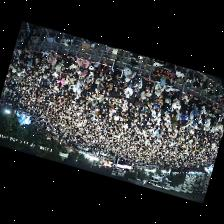person: (111, 54, 124, 78), (98, 58, 109, 76), (77, 56, 90, 70), (142, 77, 155, 91), (62, 53, 76, 66), (47, 52, 58, 67), (142, 99, 151, 117), (173, 92, 181, 112), (124, 67, 136, 80), (163, 86, 176, 98), (201, 103, 208, 123), (182, 92, 194, 103), (132, 72, 142, 85), (155, 82, 165, 95), (104, 70, 112, 86), (164, 98, 171, 116), (96, 74, 108, 84), (152, 91, 162, 103), (125, 83, 133, 97), (122, 75, 131, 87), (134, 78, 142, 91), (194, 104, 200, 121), (196, 99, 206, 109), (69, 62, 78, 73), (113, 79, 122, 90), (141, 87, 150, 98), (135, 98, 143, 110), (42, 49, 50, 61), (86, 70, 94, 82), (56, 61, 63, 74), (33, 50, 43, 59), (65, 68, 73, 79), (172, 115, 179, 127), (89, 61, 99, 69), (57, 77, 65, 87), (210, 105, 217, 116), (109, 90, 116, 101), (136, 89, 142, 101), (176, 112, 182, 124), (189, 97, 197, 106), (182, 114, 189, 124), (15, 47, 22, 57), (78, 70, 86, 78), (123, 99, 128, 111), (205, 118, 210, 130), (218, 121, 223, 133), (216, 109, 223, 117), (197, 116, 202, 127), (51, 64, 56, 73), (29, 46, 33, 57)
